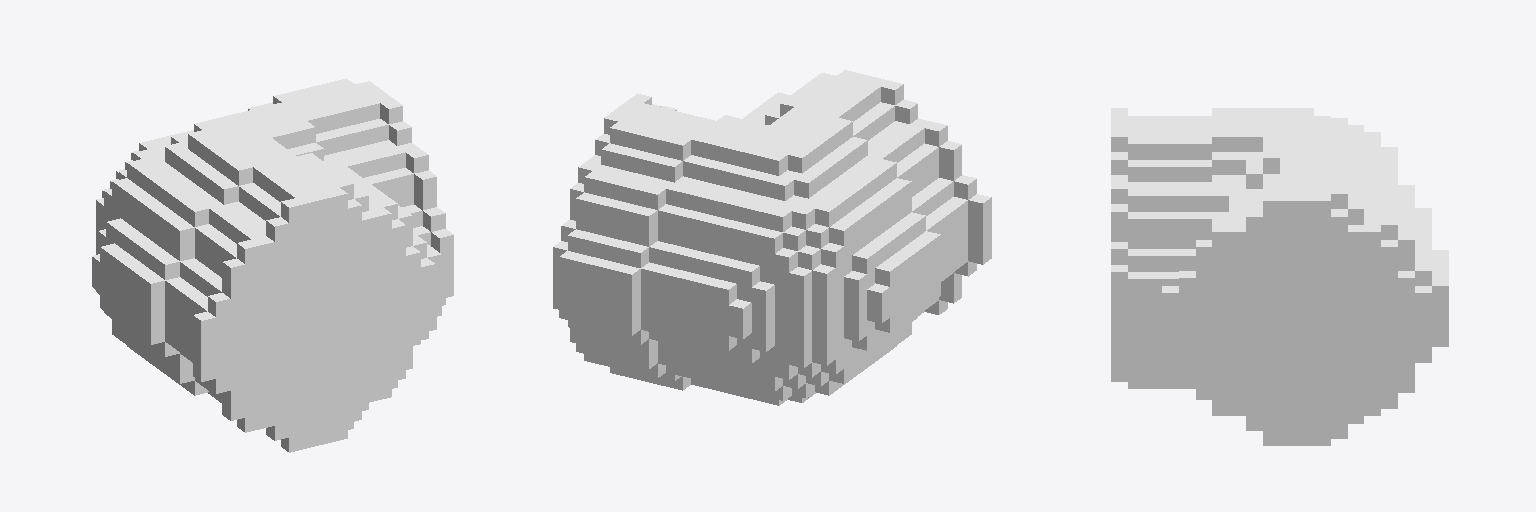
Rendered from snake22_angle_2-2_L.obj.
3 renders of one model, left to right at view 1: azimuth 30°, elevation 25°; view 2: azimuth 150°, elevation 25°; view 3: azimuth 270°, elevation 25°, orthographic.
Visible parts, largest first — view 1: object 1; view 2: object 1; view 3: object 1.
Part boxes in pixels (x1,y1,x2,y2): object 1: (92, 78, 453, 452); object 1: (553, 70, 991, 405); object 1: (1111, 108, 1448, 445).
Size of the model in its own units: 1.9 by 1.6 by 2.